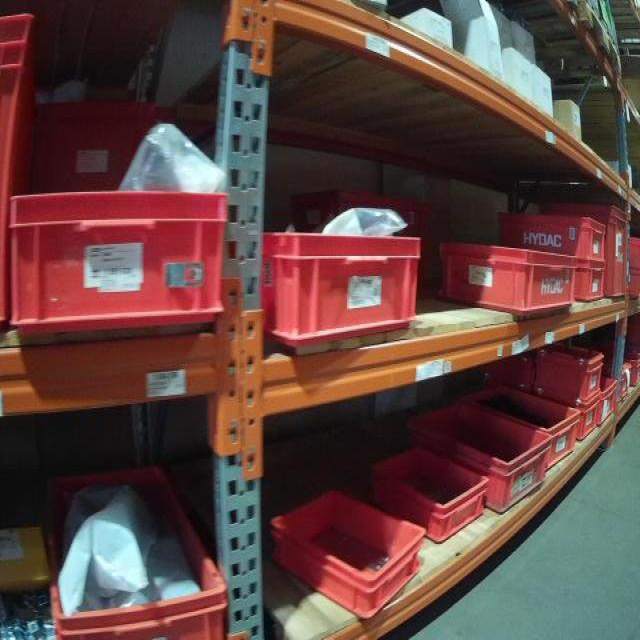pallet: (464, 5, 628, 82)
small_load_carrier: (8, 185, 224, 340), (43, 466, 224, 633), (272, 482, 426, 624), (397, 402, 562, 517), (250, 237, 420, 345), (27, 83, 176, 201), (2, 6, 51, 332), (294, 188, 435, 294), (370, 447, 494, 544), (469, 377, 590, 463), (433, 243, 574, 315), (556, 202, 628, 303), (505, 205, 611, 263), (536, 346, 608, 400), (554, 396, 600, 447), (564, 263, 611, 307), (593, 377, 622, 428), (626, 230, 638, 277), (629, 274, 637, 304), (634, 354, 639, 389)
